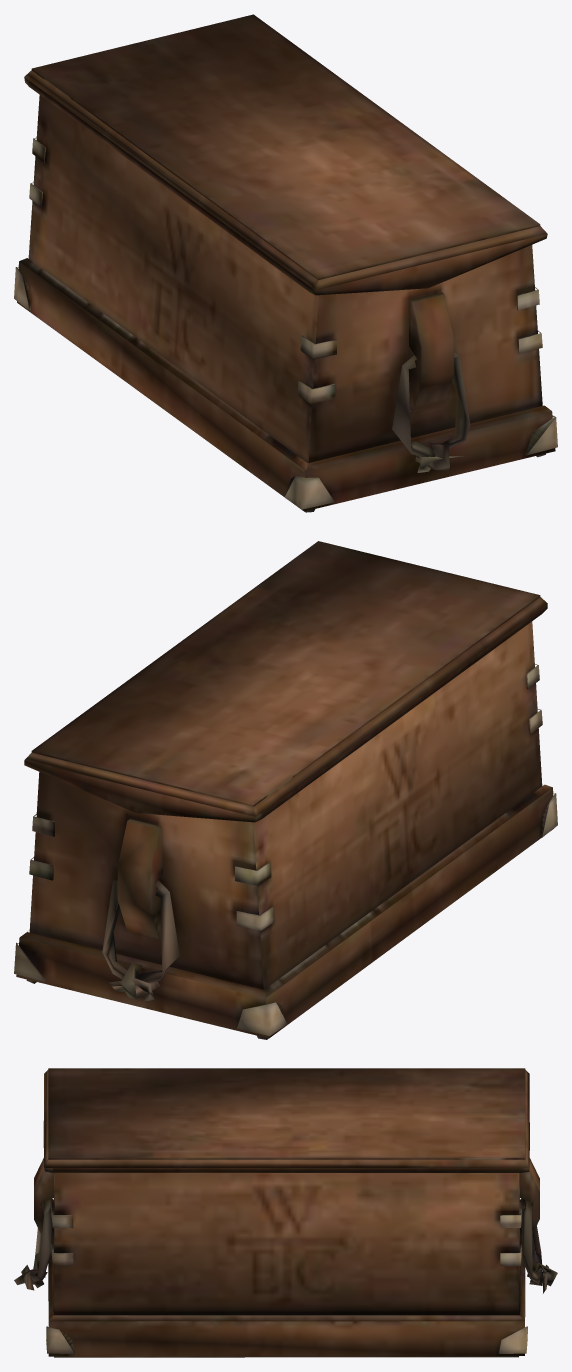
The model's file is crate_wood.glb.
3 views of the same model, one above another, from view 1: azimuth 30°, elevation 25°; view 2: azimuth 150°, elevation 25°; view 3: azimuth 270°, elevation 25° (orthographic). The views are drawn at different scales.
Visible parts, largest first — view 1: crate_wood; view 2: crate_wood; view 3: crate_wood.
Boxes of the visible parts, bbox=[...] form: crate_wood: bbox=[14, 14, 557, 512]; crate_wood: bbox=[14, 541, 557, 1039]; crate_wood: bbox=[14, 1068, 557, 1357].
Bounding box in the file's own units: 0.529 × 0.4628 × 1.16.
Materials: 1 (1 with a texture image).
